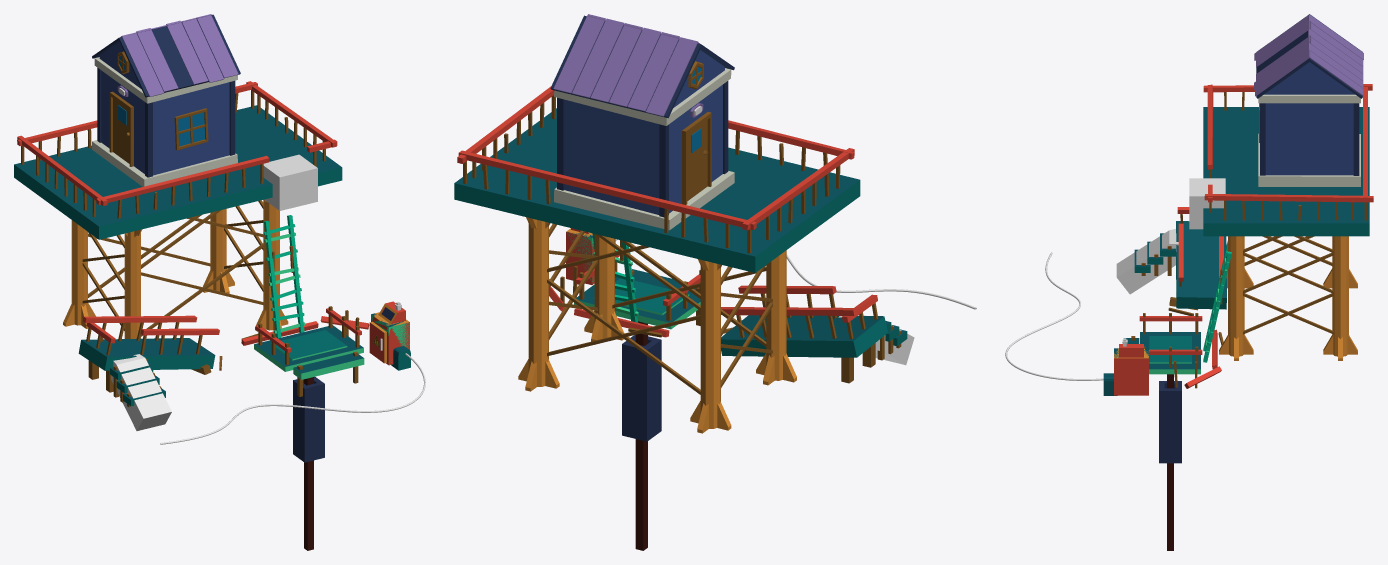
The model's file is Tower2.fbx.
The picture shows the model from 3 angles, left to right: view 1: azimuth 30°, elevation 25°; view 2: azimuth 150°, elevation 25°; view 3: azimuth 270°, elevation 25°; orthographic projection. The views are drawn at different scales.
Parts seen in each view (by area): view 1: Cube.006, Cube.010, Cube.085, Cube.057, Cube.001, Cube.071, Cube.012, Cube.004, Cube.007, Cube.084, Cylinder.001, Cube.050 (+22 smaller); view 2: Cube.006, Cube.010, Cube.085, Cube.057, Cylinder.001, Cylinder, Cube.004, Cylinder.003, Cube.050, Cube.009, Cube.102, Cube.049 (+15 smaller); view 3: Cube.006, Cube.010, Cube.085, Cube.057, Cylinder, Cube.049, Cylinder.002, Cube.001, Cube.004, Cube.059, Cube.071, Cube.102 (+11 smaller).
Boxes of the visible parts, <box> form: Cube.006: <box>14,105,342,239</box>; Cube.010: <box>94,42,237,175</box>; Cube.085: <box>120,14,238,96</box>; Cube.057: <box>78,338,215,370</box>; Cube.001: <box>254,325,363,371</box>; Cube.071: <box>111,354,171,430</box>; Cube.012: <box>263,154,317,210</box>; Cube.004: <box>293,376,324,462</box>; Cube.007: <box>263,215,305,338</box>; Cube.084: <box>92,14,240,97</box>; Cylinder.001: <box>63,220,95,328</box>; Cube.050: <box>88,215,265,336</box>; Cube.006: <box>454,108,860,272</box>; Cube.010: <box>554,50,731,214</box>; Cube.085: <box>553,14,699,116</box>; Cube.057: <box>721,315,887,357</box>; Cylinder.001: <box>690,259,731,433</box>; Cylinder: <box>518,217,559,391</box>; Cube.004: <box>622,335,661,441</box>; Cylinder.003: <box>756,250,796,385</box>; Cube.050: <box>547,240,766,394</box>; Cube.009: <box>458,150,756,230</box>; Cube.102: <box>554,171,734,230</box>; Cube.049: <box>549,223,772,387</box>; Cube.006: <box>1203,107,1369,236</box>; Cube.010: <box>1258,62,1360,175</box>; Cube.085: <box>1254,14,1363,96</box>; Cube.057: <box>1176,221,1226,309</box>; Cylinder: <box>1323,236,1357,360</box>; Cube.049: <box>1243,236,1333,334</box>; Cylinder.002: <box>1219,236,1253,360</box>; Cube.001: <box>1140,332,1200,374</box>; Cube.004: <box>1159,381,1181,463</box>; Cube.059: <box>1114,344,1148,395</box>; Cube.071: <box>1116,229,1178,294</box>; Cube.102: <box>1258,133,1360,186</box>.
Bounding box in the file's own units: 2760 × 4587 × 3189.
Materials: 6 (5 with a texture image).
